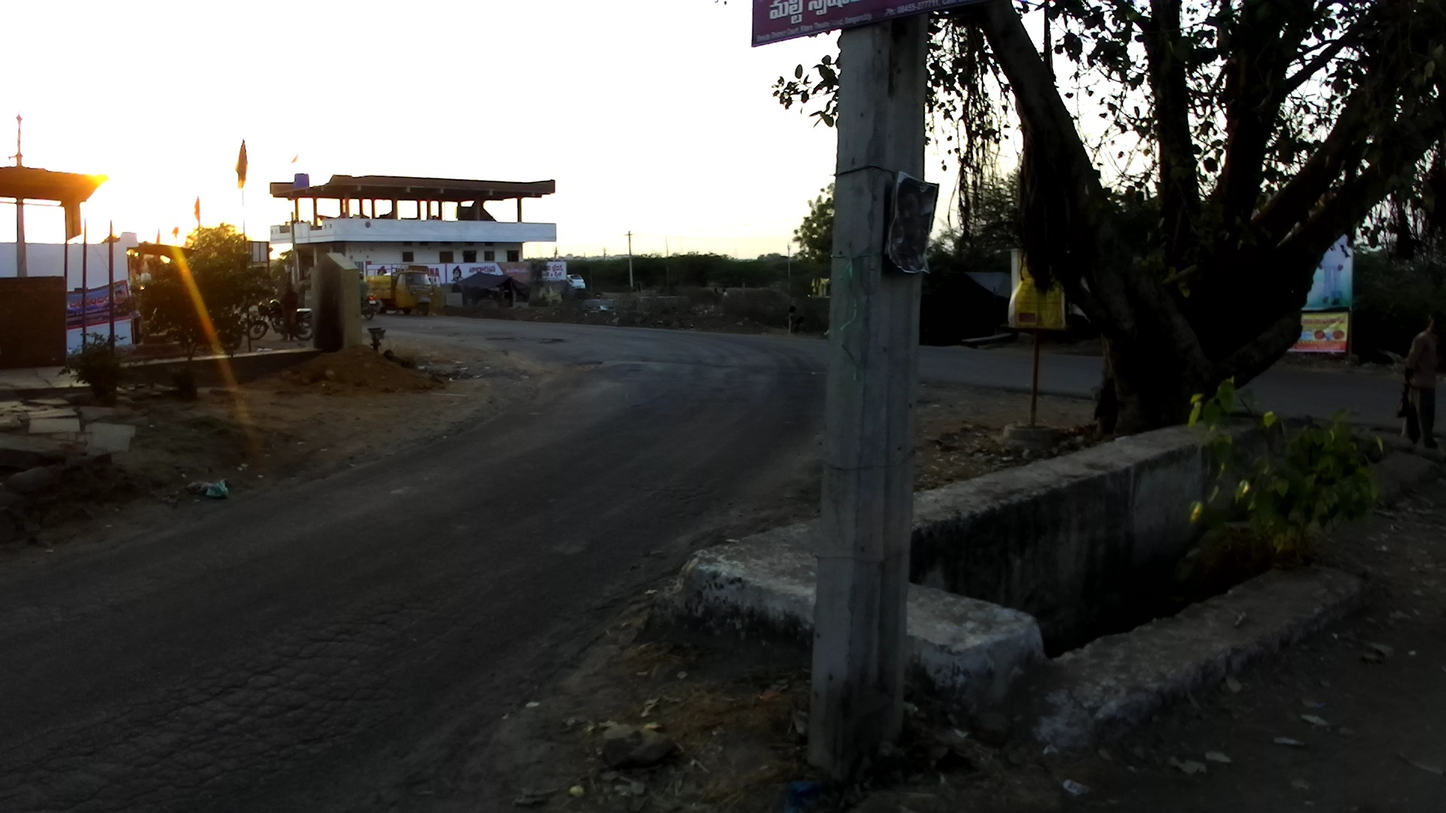autorickshaw: (363, 262, 444, 318)
car: (566, 274, 585, 291)
motorcycle: (247, 297, 316, 343), (361, 294, 378, 320)
person: (1396, 313, 1441, 446), (277, 282, 300, 343), (712, 287, 720, 312), (721, 288, 728, 312)
rider: (358, 271, 369, 299)
